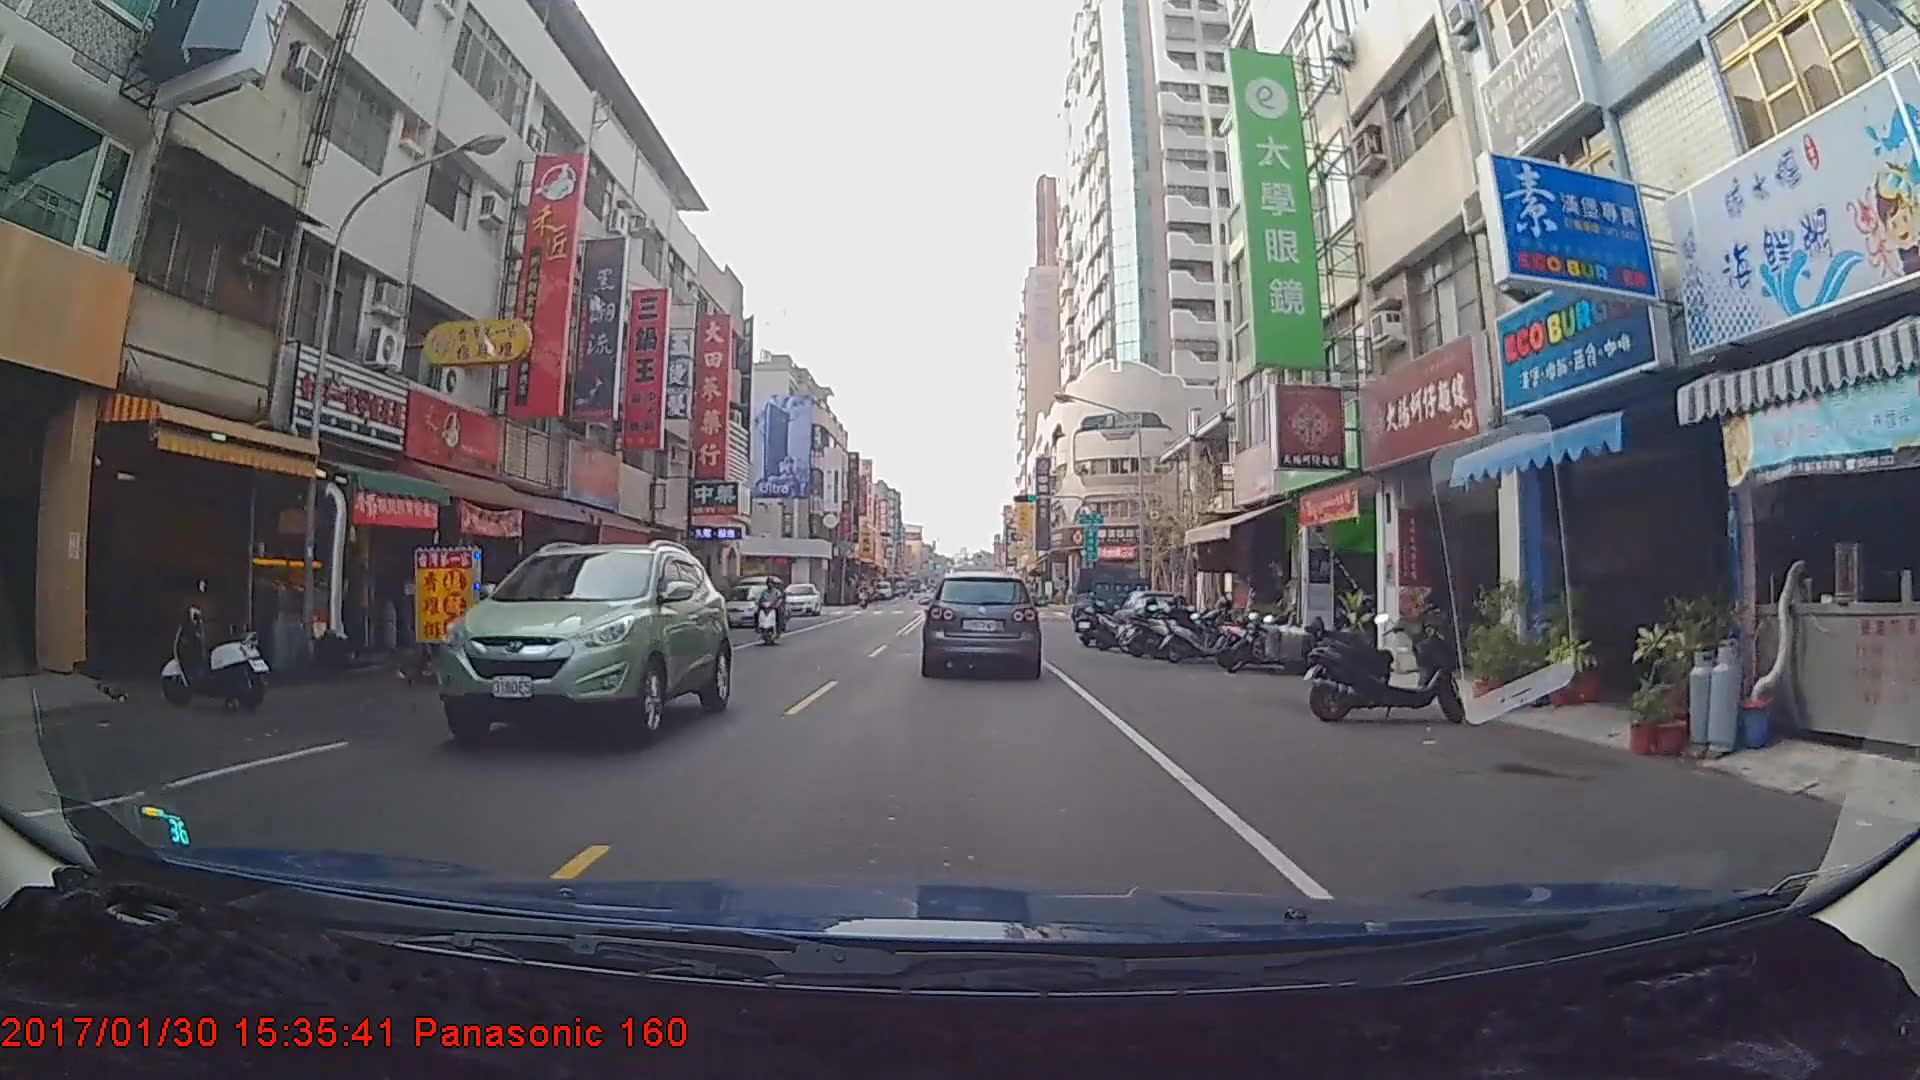rider: (757, 574, 791, 642)
vehicle: (433, 542, 732, 751), (924, 570, 1039, 676), (1068, 567, 1154, 635), (711, 581, 787, 629), (779, 583, 821, 617)
